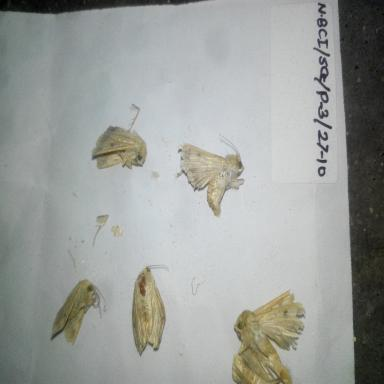abw: (226, 282, 308, 384), (176, 130, 256, 225), (88, 97, 156, 179), (121, 258, 174, 362), (48, 271, 110, 359)
